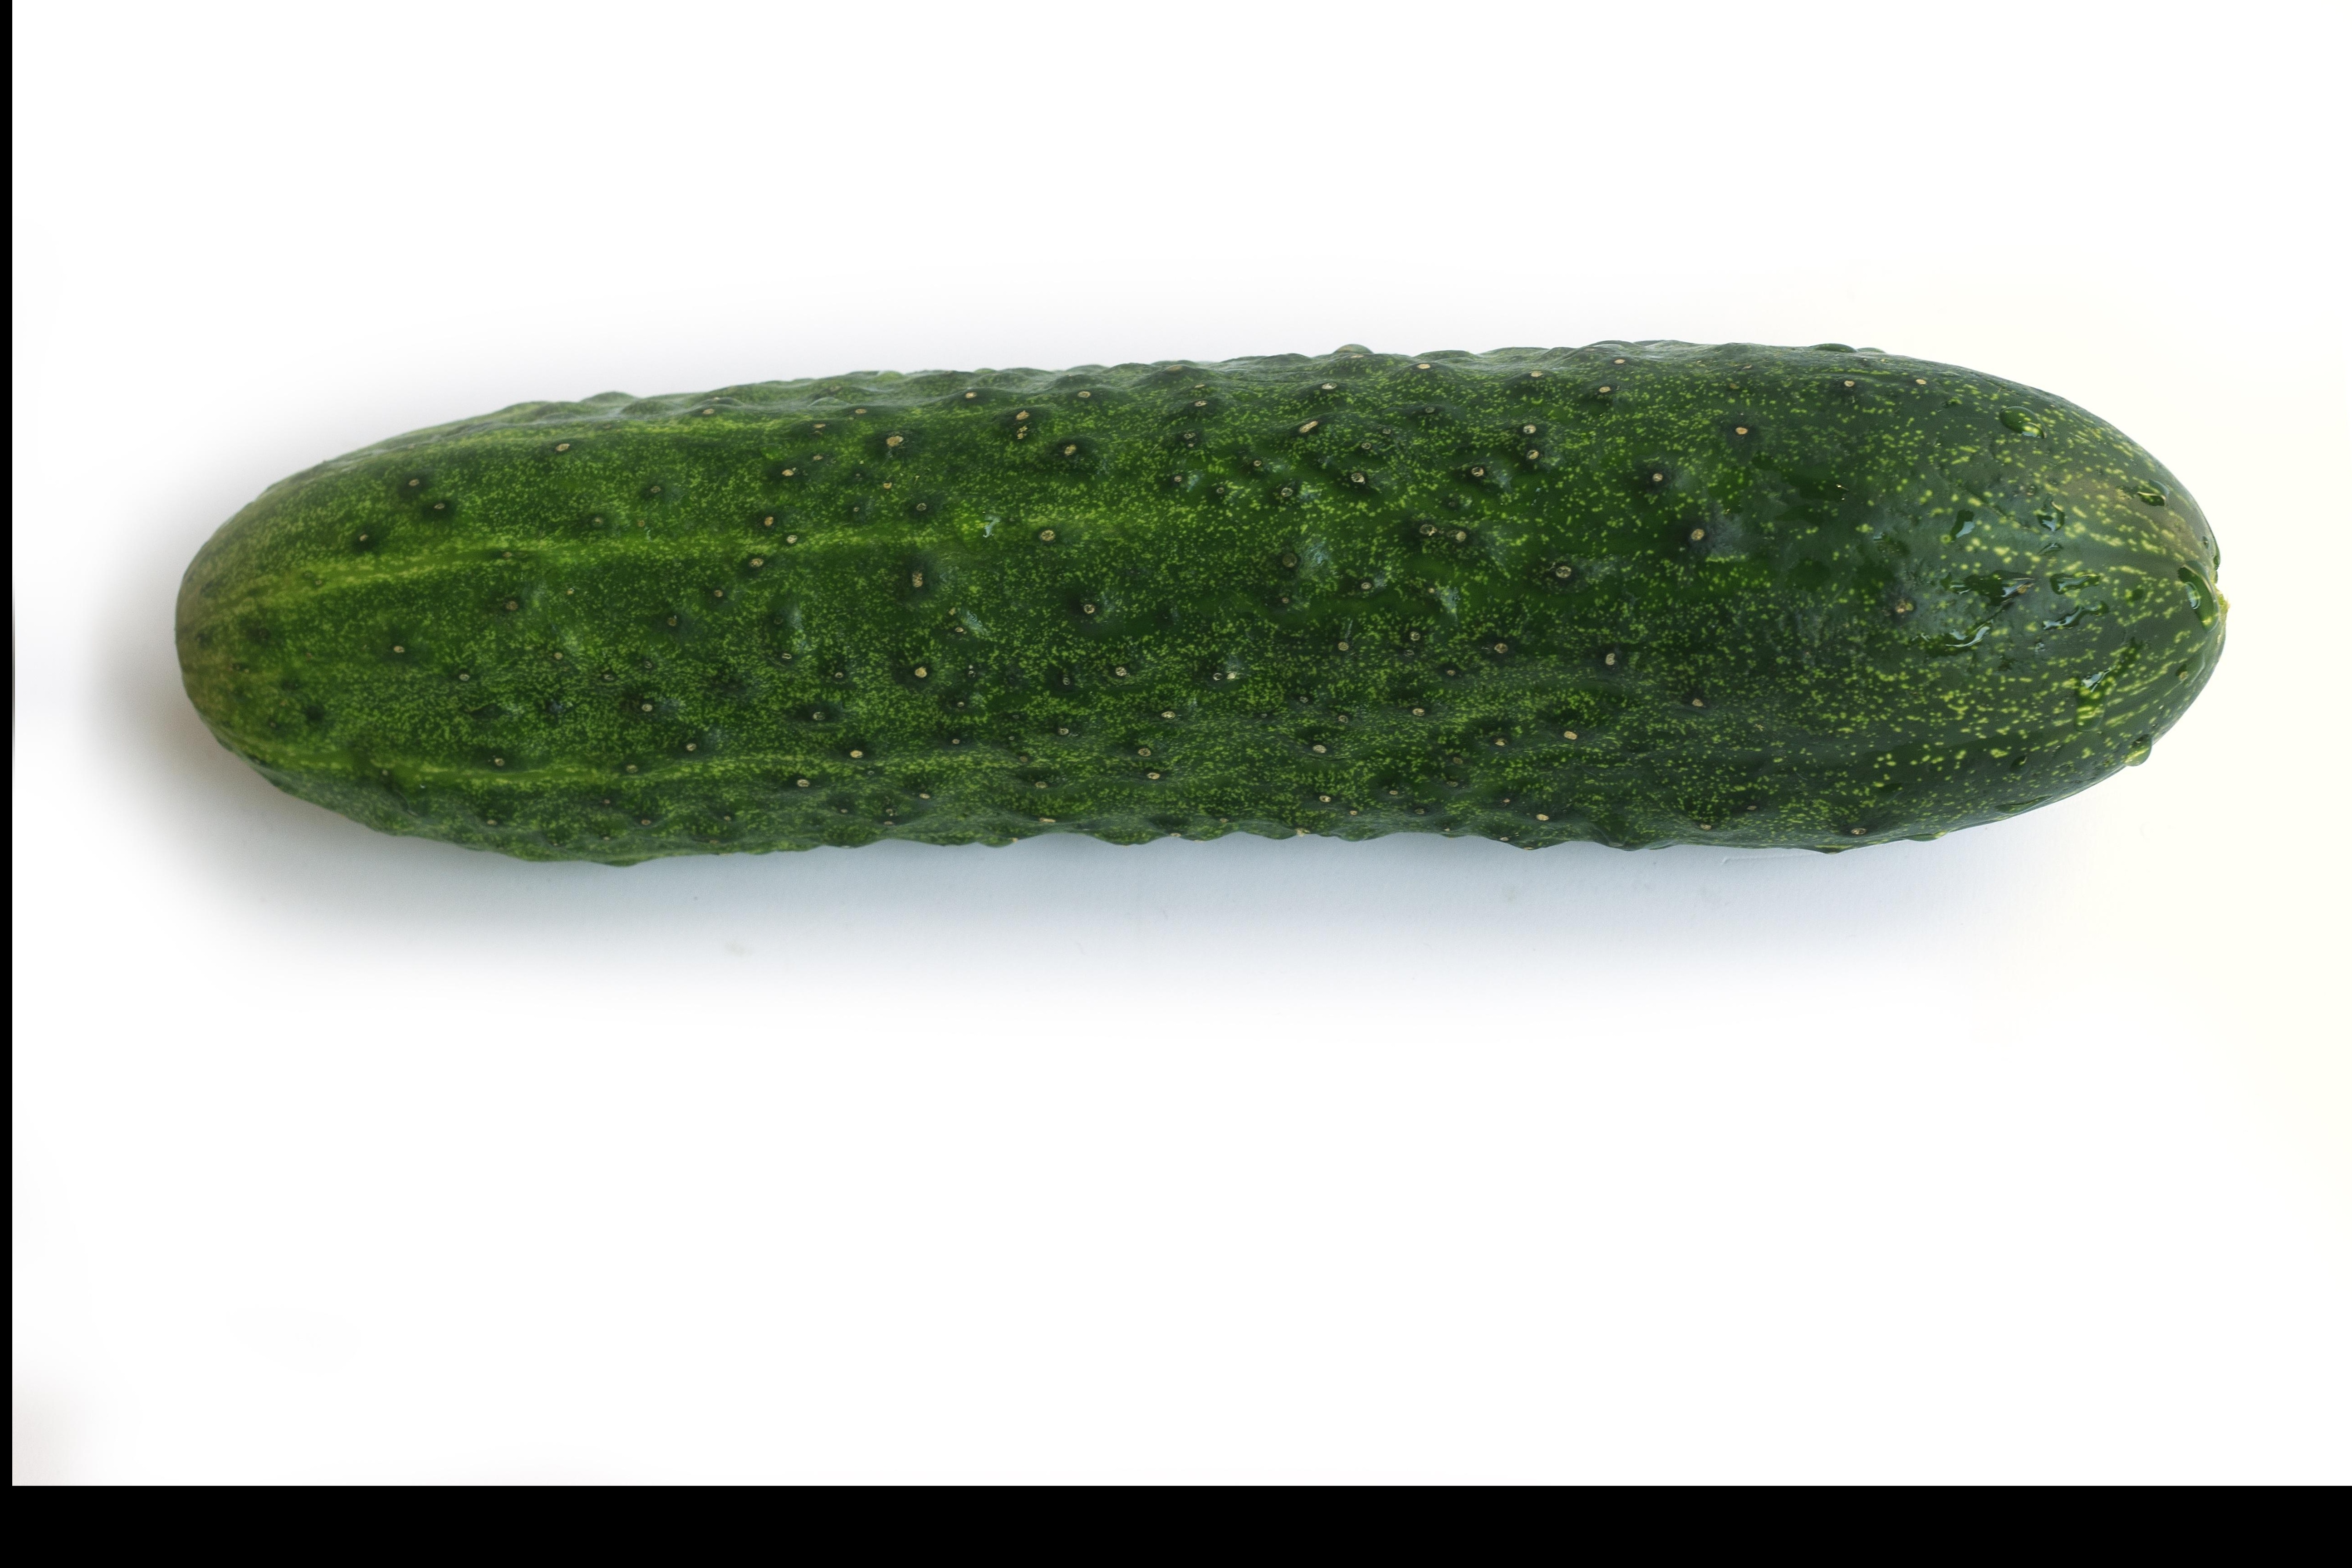cucumber: (156, 343, 2235, 901)
